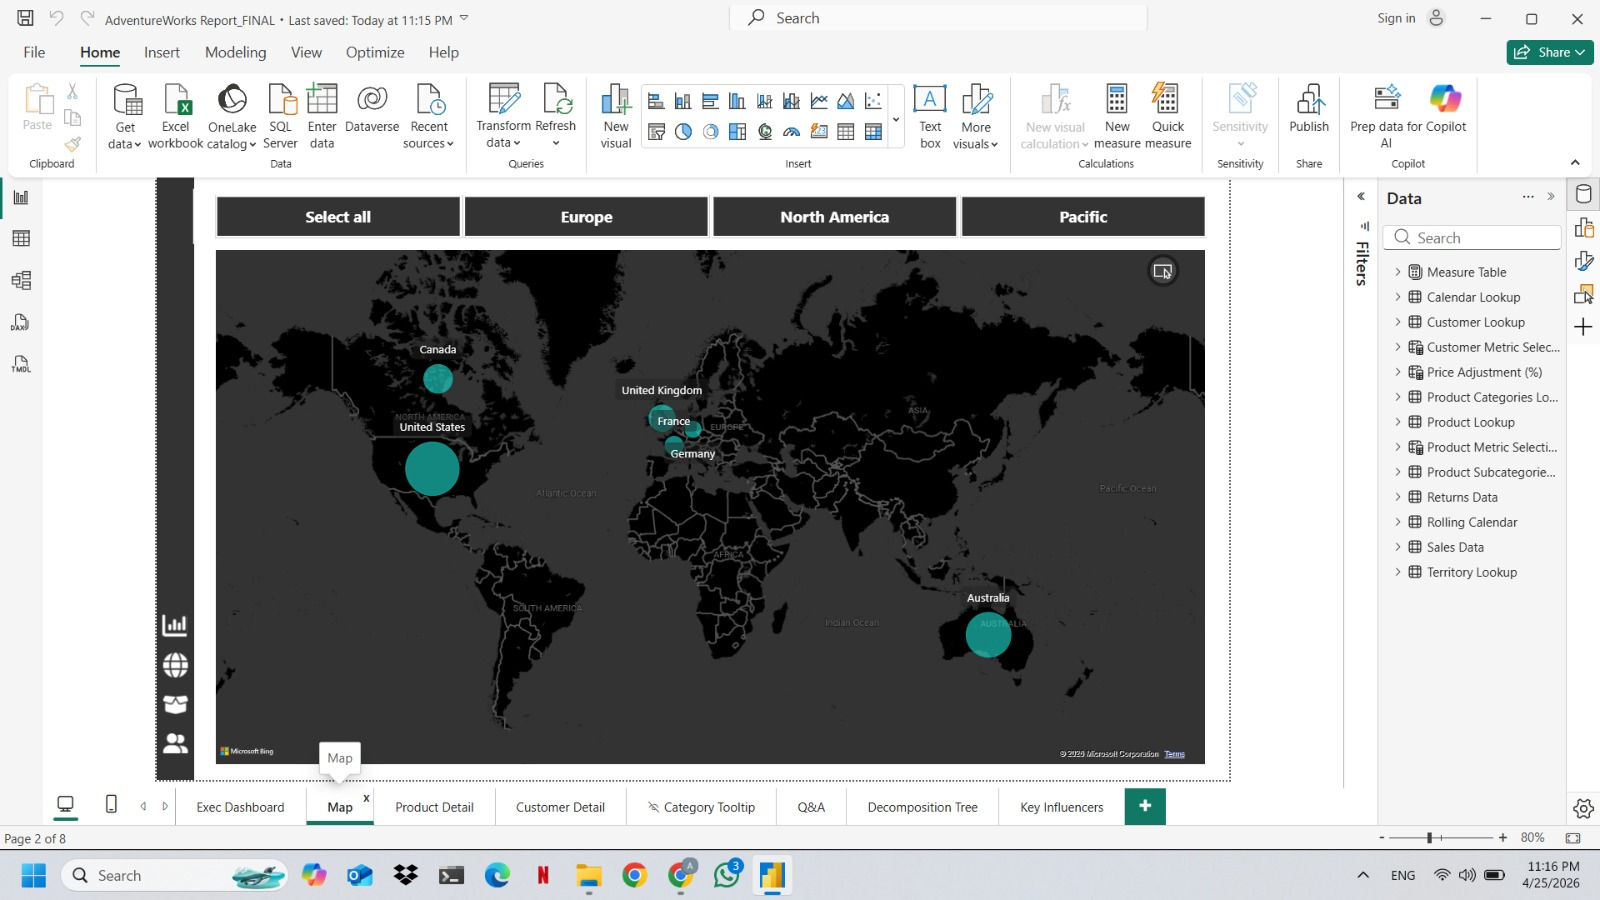

Layout of this report page (visuals, bound fields, positions):
{"tool":"powerbi","page":{"name":"Map","canvas":[1280,720],"ordinal":1},"visuals":[{"type":"shape","box":[0,0,45,720],"z":0},{"type":"actionButton","box":[2.5,516.7,45.6,37.8],"z":0,"group":"g1"},{"type":"map","fields":{"Category":["Territory Lookup.Country"],"Size":["Measure Table.Total Orders"]},"box":[65.6,82.5,1191.3,622.8],"z":1000},{"type":"actionButton","box":[3.3,563.4,45.6,37.8],"z":1000,"group":"g1"},{"type":"slicer","fields":{"Values":["Territory Lookup.Continent"]},"box":[43,13.6,1234.3,65.6],"z":2000},{"type":"actionButton","box":[3.3,611.1,45.6,37.8],"z":2000,"group":"g1"},{"type":"group","id":"g1","title":"Navigation Buttons","box":[2.5,516.7,46.4,178.9],"z":3000},{"type":"actionButton","box":[3.3,657.8,45.6,37.8],"z":3000,"group":"g1"}]}

Visuals, with their boxes on the page's 1280x720 design canvas (x1, y1, x2, y2). These are canvas units, not pixel positions in the 1600x900 screenshot, which may show the page scaled, cropped or inside an application window:
shape: BBox(0, 0, 45, 720)
actionButton: BBox(2, 517, 48, 554)
map - Territory Lookup.Country x Measure Table.Total Orders: BBox(66, 82, 1257, 705)
actionButton: BBox(3, 563, 49, 601)
slicer - Territory Lookup.Continent: BBox(43, 14, 1277, 79)
actionButton: BBox(3, 611, 49, 649)
"Navigation Buttons" group: BBox(2, 517, 49, 696)
actionButton: BBox(3, 658, 49, 696)
